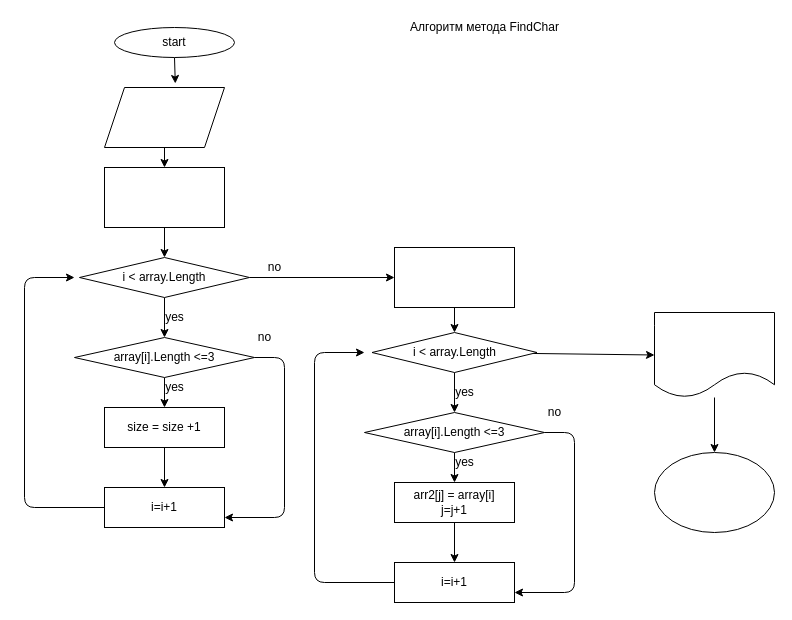
Some shapes in this 792 by 620 pixel diagram are drawn without their labels. Here are the shapes that lost their labels. From the top down, the box of each, then its label:
(104, 86, 224, 148): array[]
(104, 166, 224, 228): size = 0 i = 0
(394, 246, 514, 308): arr2[size]
(654, 312, 774, 398): arr2
